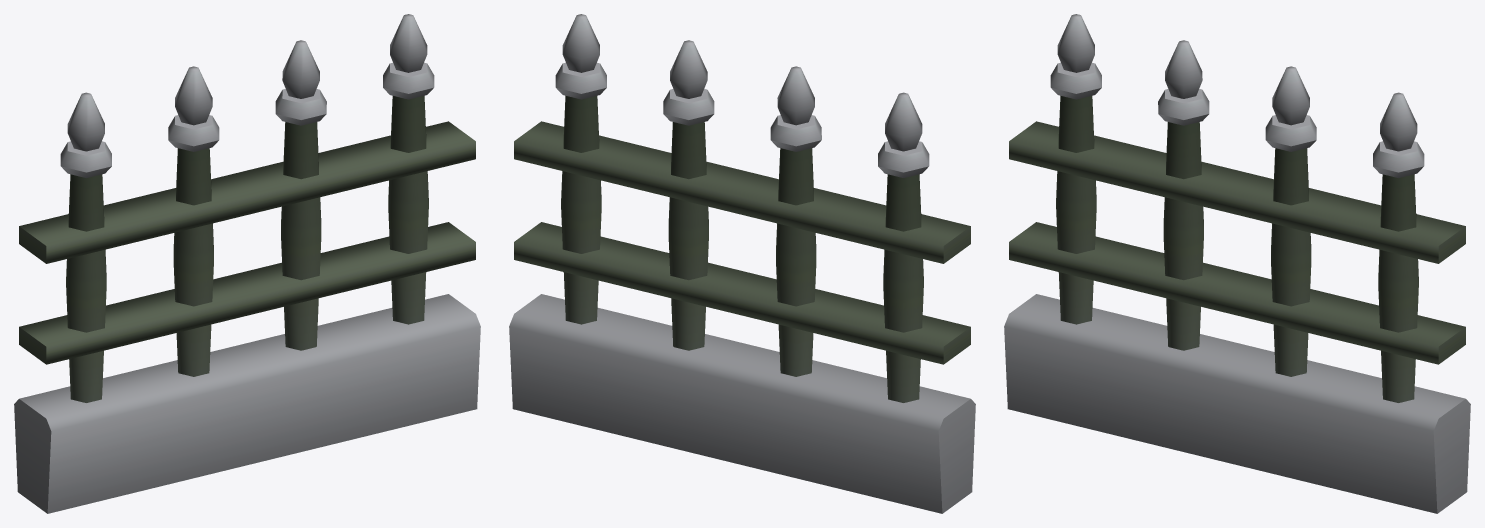
Rendered from iron-fence-border.glb.
3 renders of one model, left to right at view 1: azimuth 30°, elevation 25°; view 2: azimuth 150°, elevation 25°; view 3: azimuth 330°, elevation 25°, orthographic.
Parts seen in each view (by area): view 1: iron-fence-border; view 2: iron-fence-border; view 3: iron-fence-border.
Part boxes in pixels (<box>): iron-fence-border: <box>14,14,480,513</box>; iron-fence-border: <box>509,14,975,513</box>; iron-fence-border: <box>1004,14,1470,513</box>.
Bounding box in the file's own units: 1.5 × 1.32 × 0.225.
Materials: 1 (1 with a texture image).
